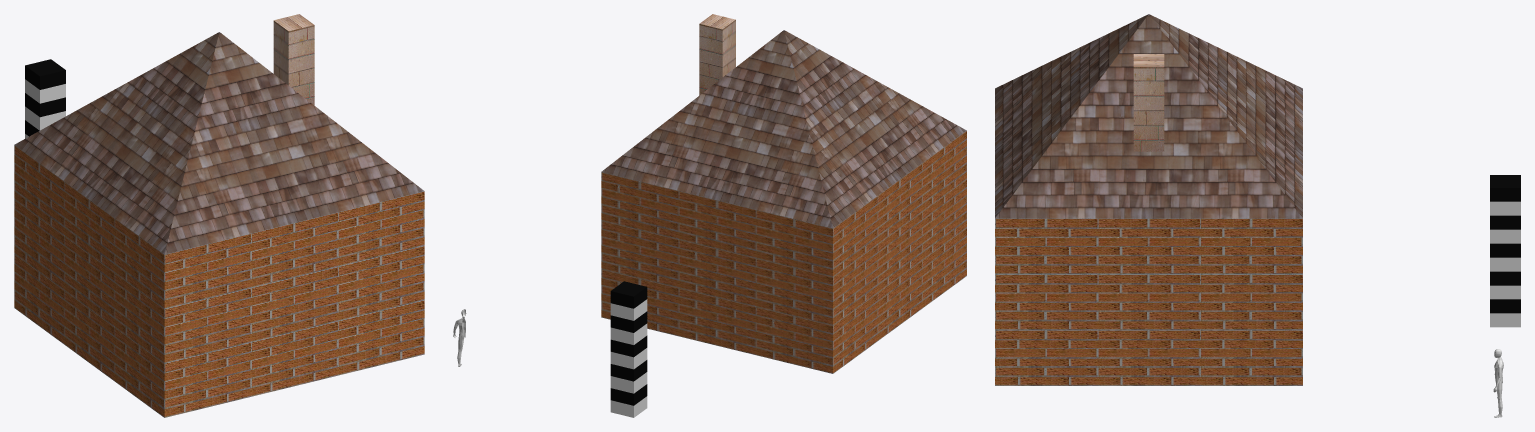
File: Stick.glb
3 views of the same model, side by side, from view 1: azimuth 30°, elevation 25°; view 2: azimuth 150°, elevation 25°; view 3: azimuth 270°, elevation 25° (orthographic). The views are drawn at different scales.
Visible parts, largest first — view 1: Cube, Cube.002; view 2: Cube, Cube.002; view 3: Cube, Cube.002, Cube.001.
Part boxes in pixels (x1=…): Cube: x1=14, y1=14, x2=424, y2=417; Cube.002: x1=25, y1=59, x2=65, y2=138; Cube: x1=601, y1=14, x2=966, y2=373; Cube.002: x1=610, y1=281, x2=647, y2=417; Cube: x1=995, y1=14, x2=1302, y2=385; Cube.002: x1=1490, y1=175, x2=1520, y2=327; Cube.001: x1=1493, y1=349, x2=1503, y2=417.
Bounding box in the file's own units: 25.51 × 22 × 34.17.
6 materials, 3 textured.
